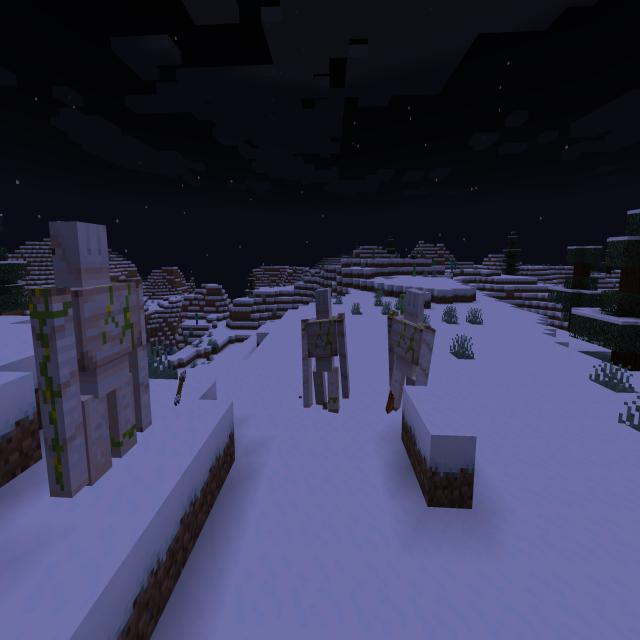Iron Golem: (24, 214, 154, 500), (301, 284, 351, 416), (386, 285, 436, 417)
